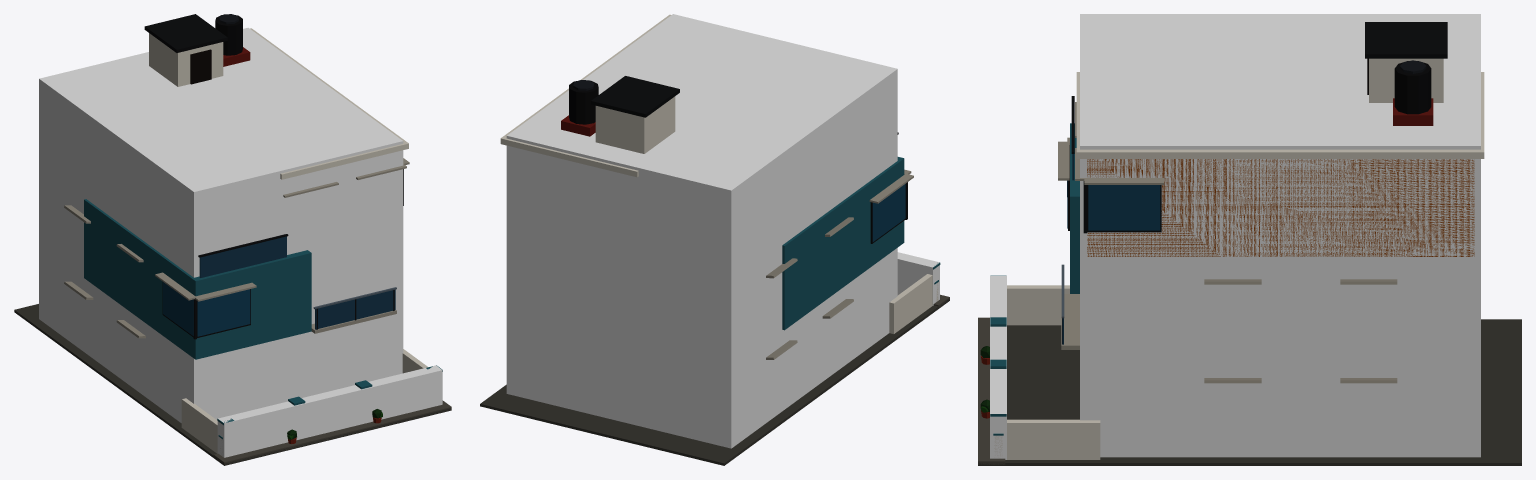
File: CHN_044_terrace_modern.glb
3 views of the same model, side by side, from view 1: azimuth 30°, elevation 25°; view 2: azimuth 150°, elevation 25°; view 3: azimuth 270°, elevation 25° (orthographic). The views are drawn at different scales.
Visible parts, largest first — view 1: COL_Main, LOD0, COL_Compound; view 2: COL_Main, LOD0, COL_Compound; view 3: COL_Main, LOD0, COL_Compound.
Boxes of the visible parts, <box> form: COL_Main: <box>39,27,403,422</box>; LOD0: <box>14,14,451,465</box>; COL_Compound: <box>217,365,442,457</box>; COL_Main: <box>506,14,897,448</box>; LOD0: <box>480,14,949,465</box>; COL_Compound: <box>897,252,939,305</box>; COL_Main: <box>1080,14,1480,457</box>; LOD0: <box>978,22,1521,465</box>; COL_Compound: <box>990,276,1006,459</box>.
Size of what is drawn, in the model's own units: 10.05 by 11.87 by 16.
